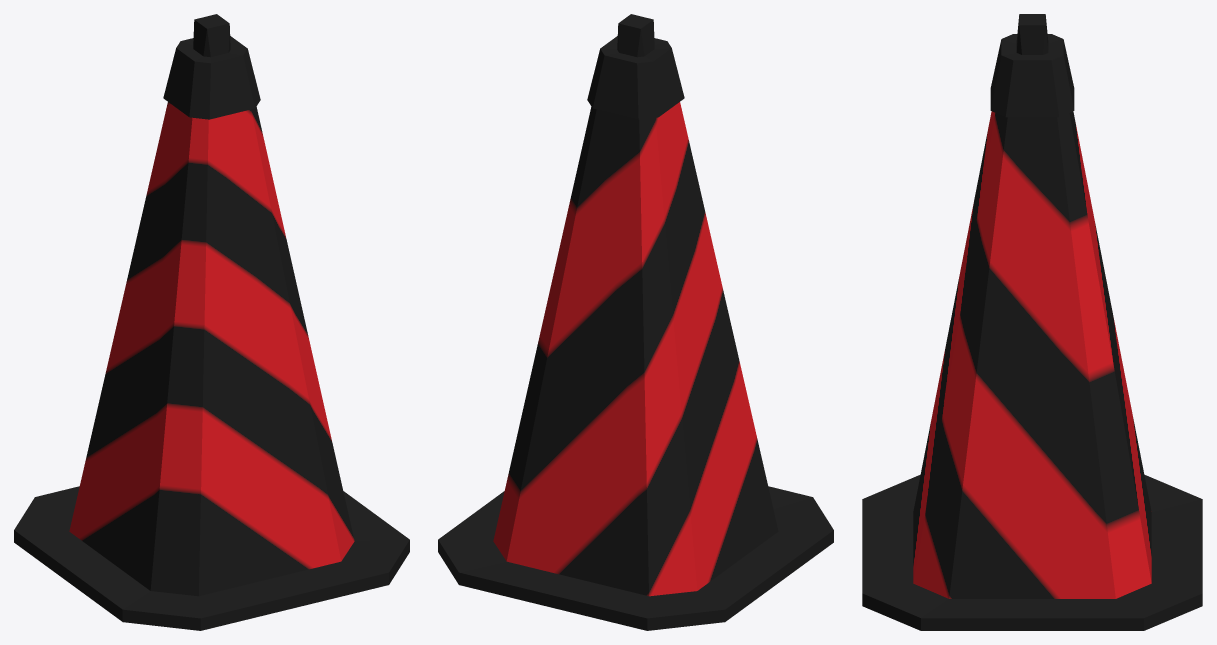
Rendered from newredroadcone.fbx.
3 renders of one model, left to right at view 1: azimuth 30°, elevation 25°; view 2: azimuth 150°, elevation 25°; view 3: azimuth 270°, elevation 25°, orthographic. The views are drawn at different scales.
Parts seen in each view (by area): view 1: sm_roadcone; view 2: sm_roadcone; view 3: sm_roadcone.
Boxes of the visible parts, x1,y1,x2,y2 form: sm_roadcone: [14, 14, 409, 630]; sm_roadcone: [438, 14, 833, 630]; sm_roadcone: [862, 14, 1202, 630].
Size of the model in its own units: 0.4 by 0.7 by 0.4.
Materials: 1 (1 with a texture image).
